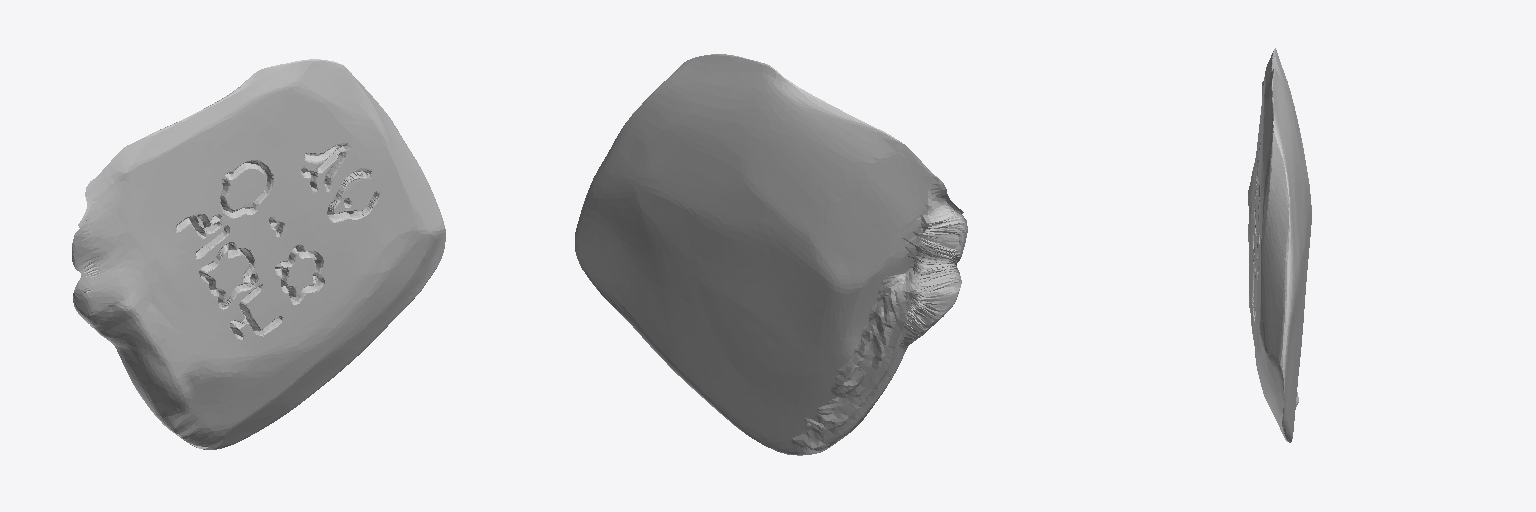
File: Tabula5.obj
The picture shows the model from 3 angles: view 1: azimuth 30°, elevation 25°; view 2: azimuth 150°, elevation 25°; view 3: azimuth 270°, elevation 25°; orthographic projection.
Bounding box in the file's own units: 16.64 × 15.68 × 2.41.